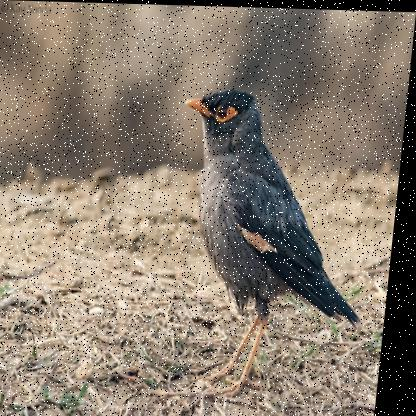Burung: (160, 88, 383, 395)
